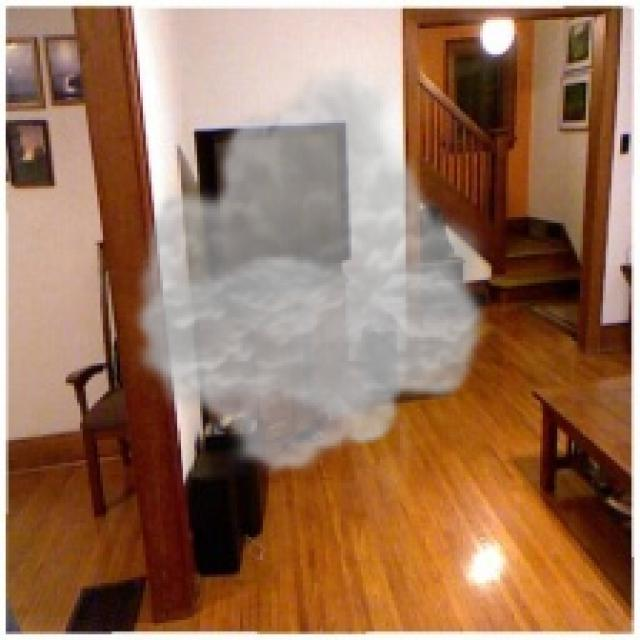smoke: (126, 63, 494, 477)
